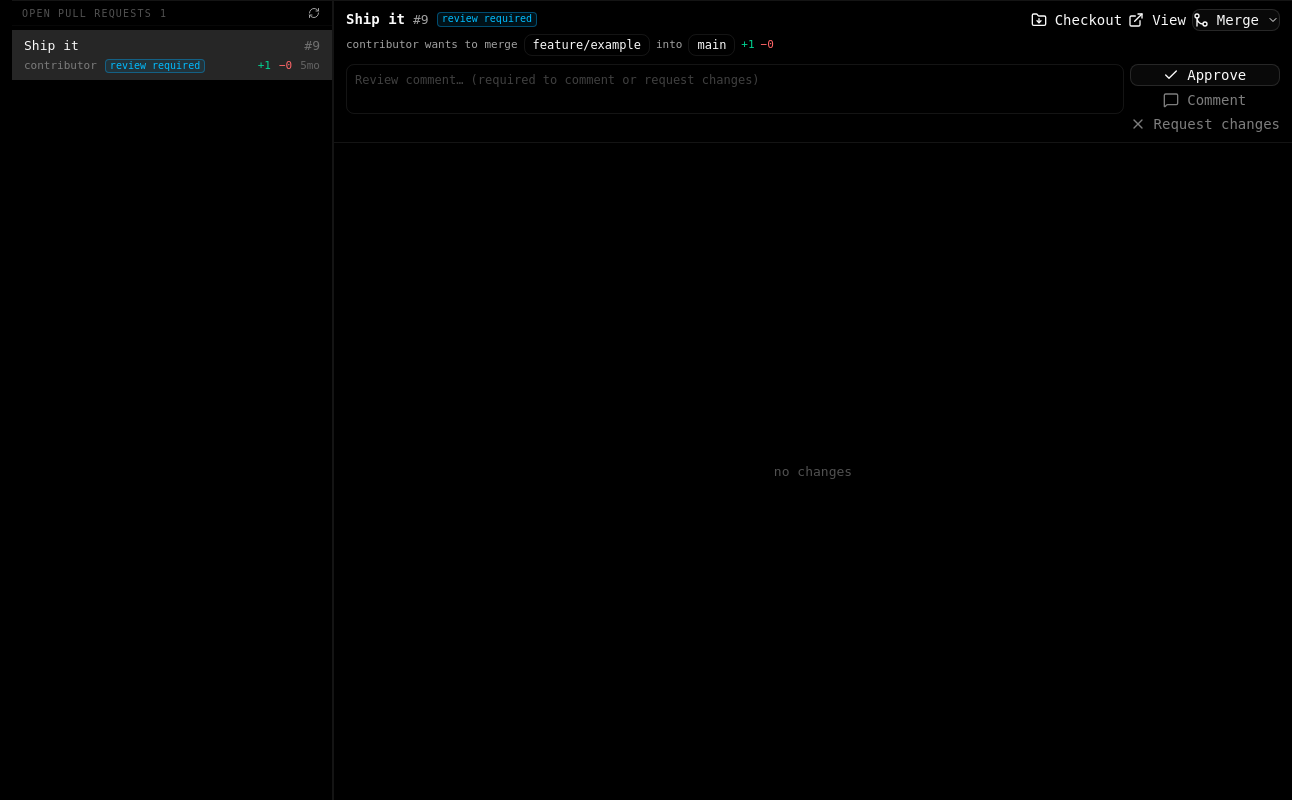
merge strategy menu merges the PR and the list reloads without it
Click the button "Merge": [1236, 20] box [1192,9,1280,31]
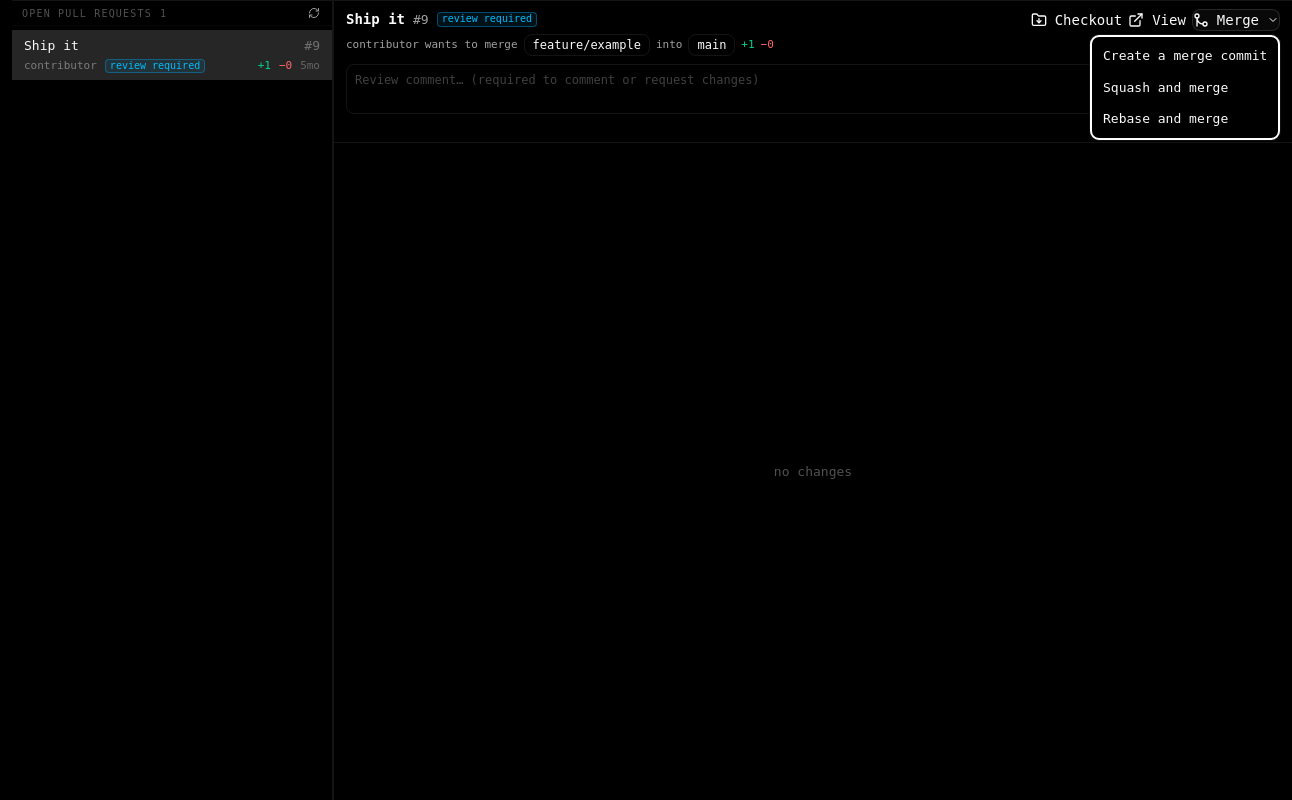
Click the menu item "Squash and merge": [1166, 87] box [1103,80,1228,94]
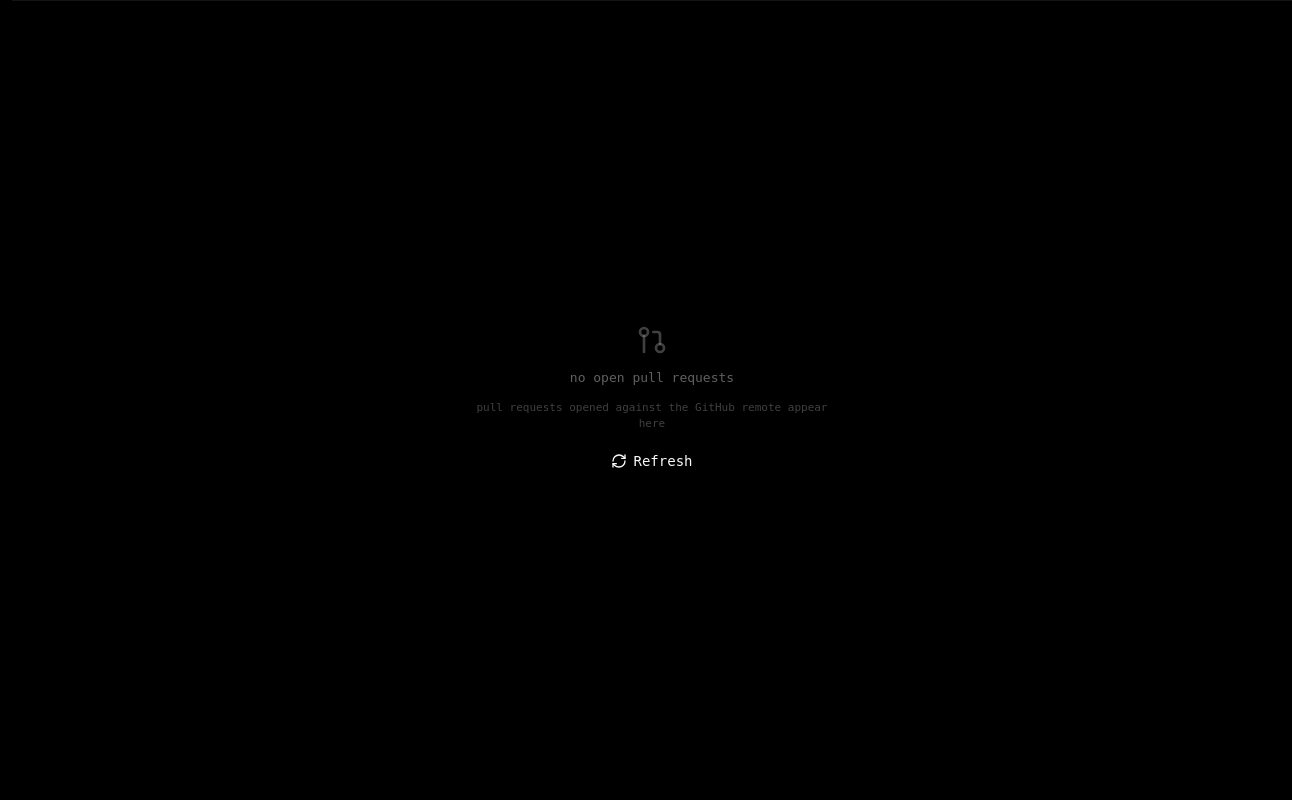
Now the text "no open pull requests" is shown, box [570,368,734,388]
